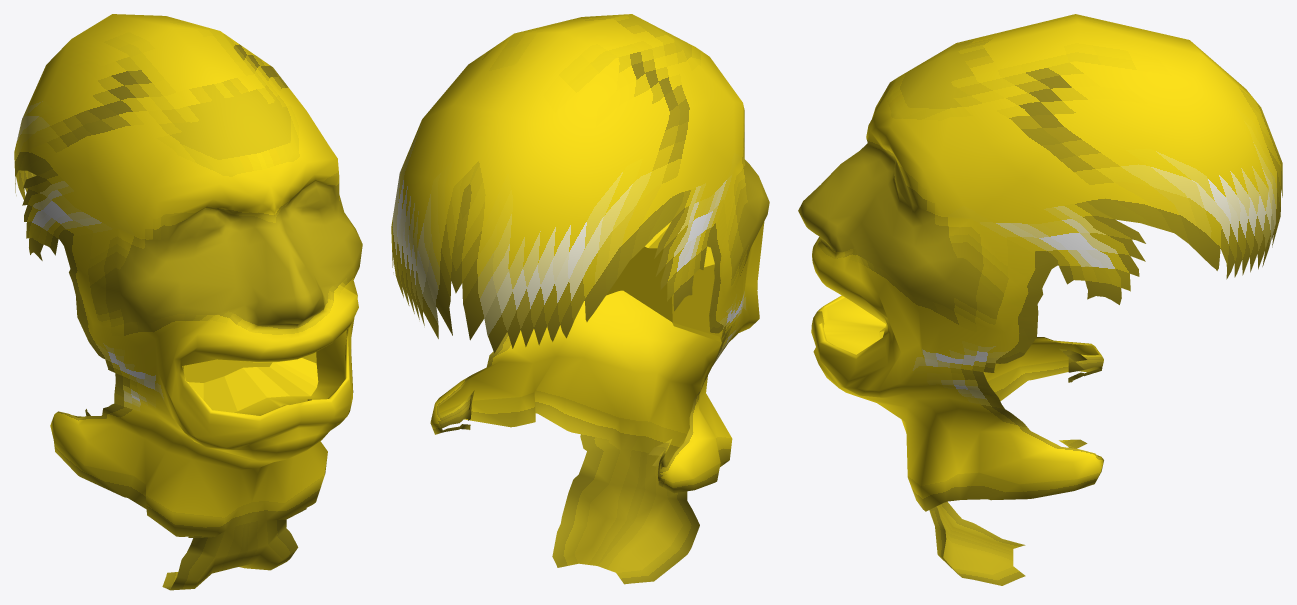
Rendered from idolo.FBX.
3 renders of one model, left to right at view 1: azimuth 30°, elevation 25°; view 2: azimuth 150°, elevation 25°; view 3: azimuth 270°, elevation 25°, orthographic. The views are drawn at different scales.
Parts seen in each view (by area): view 1: skin_med; view 2: skin_med; view 3: skin_med.
Boxes of the visible parts, left/top/right/bottom form: skin_med: left=14, top=14, right=362, bottom=590; skin_med: left=391, top=14, right=769, bottom=584; skin_med: left=798, top=14, right=1282, bottom=585.
Size of the model in its own units: 0.9289 by 1.85 by 1.5.
